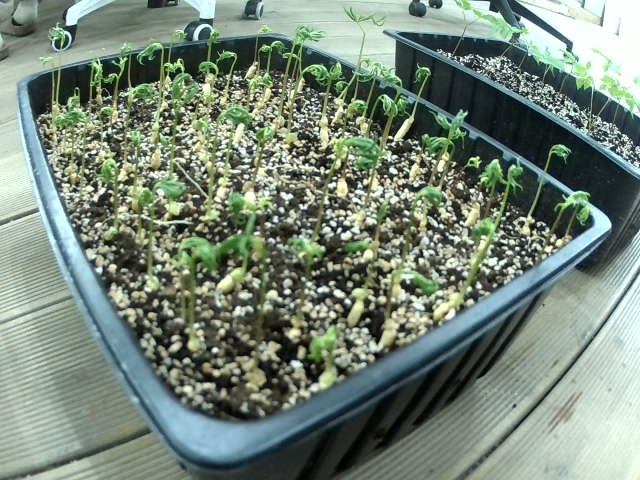생장기: (181, 235, 244, 283), (531, 131, 579, 190), (547, 178, 592, 236), (423, 100, 471, 152), (400, 254, 448, 302), (212, 40, 261, 87), (324, 130, 379, 171), (395, 132, 452, 169), (491, 154, 534, 202), (340, 7, 381, 55), (287, 236, 332, 279), (338, 230, 379, 275), (407, 183, 455, 221), (131, 188, 180, 225), (392, 55, 435, 96), (465, 211, 510, 249), (466, 147, 502, 192), (362, 196, 403, 235), (335, 90, 372, 132), (304, 324, 341, 363), (300, 57, 348, 86), (124, 123, 162, 159), (361, 64, 397, 99), (217, 102, 248, 142), (251, 119, 280, 160), (86, 60, 119, 96), (384, 94, 422, 125), (161, 70, 197, 102), (229, 195, 259, 233), (341, 56, 377, 87), (150, 146, 181, 181), (239, 15, 275, 45), (95, 157, 132, 186), (350, 63, 388, 91), (363, 86, 391, 123), (56, 112, 89, 143), (46, 21, 76, 53), (295, 21, 327, 51), (139, 41, 174, 68), (108, 34, 139, 64), (103, 51, 131, 82), (36, 53, 64, 82), (157, 53, 185, 82), (161, 22, 191, 48), (92, 107, 117, 137), (251, 39, 275, 67), (63, 82, 87, 107), (271, 30, 293, 57), (191, 87, 213, 108)
